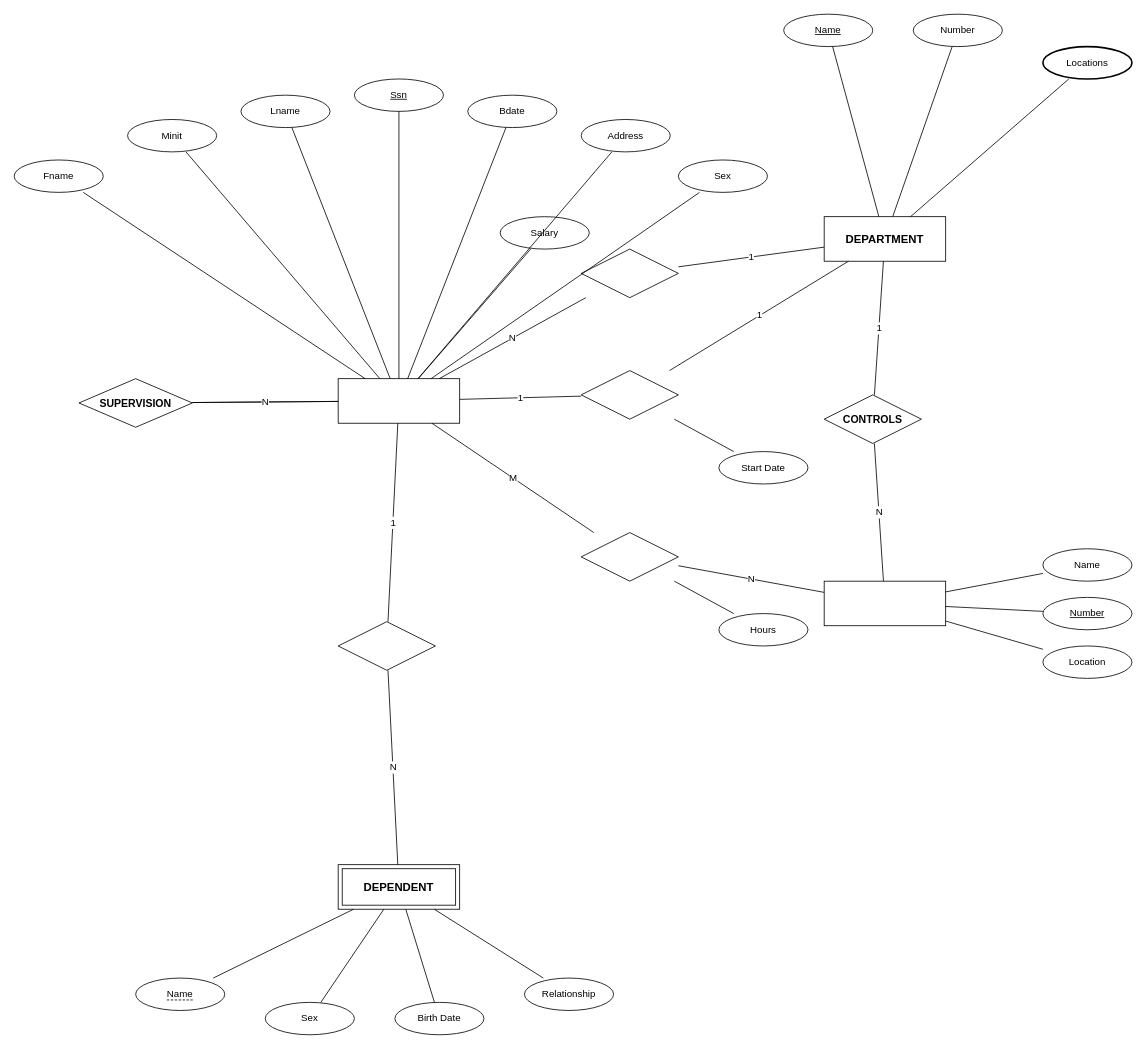
This 1147x1049 diagram has some shape labels left out. Here are the shapes that lost their labels. From the top down, the box of each, then its label:
(580, 248, 678, 298): WORKS_FOR
(337, 378, 460, 423): EMPLOYEE
(580, 370, 678, 419): MANAGES
(580, 532, 678, 581): WORKS_ON
(823, 580, 946, 626): PROJECT
(337, 621, 435, 670): DEPENDENTS_OF
